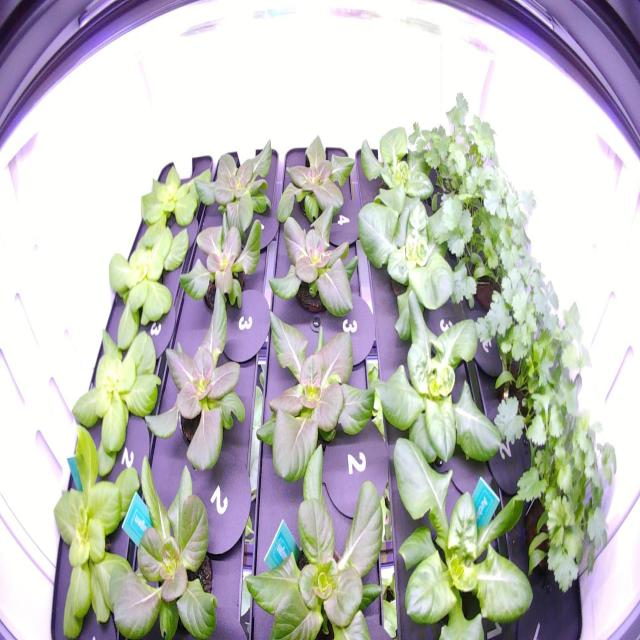young: (376, 419, 541, 639), (233, 428, 397, 637), (366, 282, 515, 492), (244, 300, 382, 520), (96, 433, 234, 638), (140, 273, 257, 487), (44, 417, 143, 637), (357, 172, 476, 347), (63, 316, 168, 486), (259, 196, 367, 338), (174, 194, 272, 324), (106, 216, 194, 360), (186, 132, 282, 258), (350, 111, 450, 230), (270, 120, 360, 246), (131, 158, 216, 254)
